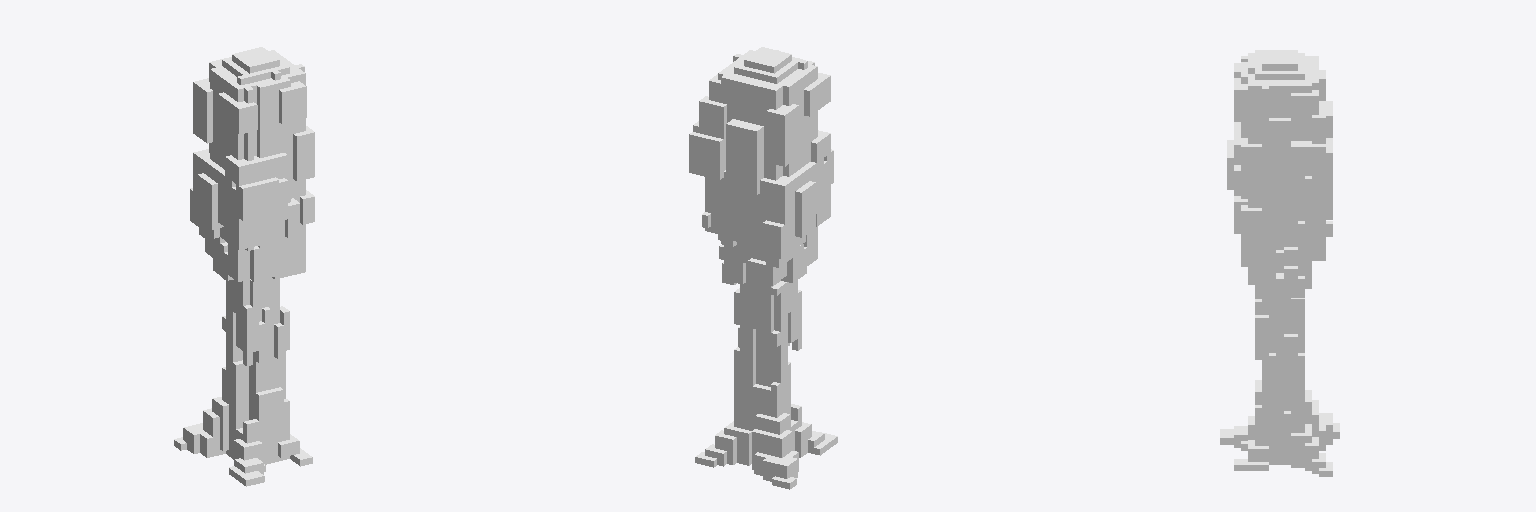
File: Verano_Arbol_Var2.obj
The picture shows the model from 3 angles: view 1: azimuth 30°, elevation 25°; view 2: azimuth 150°, elevation 25°; view 3: azimuth 270°, elevation 25°; orthographic projection.
Visible parts, largest first — view 1: object 1; view 2: object 1; view 3: object 1.
Boxes of the visible parts, box(x1,y1,x2,y2) form: object 1: box(174, 47, 314, 486); object 1: box(689, 47, 837, 489); object 1: box(1220, 50, 1339, 476).
Size of the model in its own units: 1.7 by 6.2 by 1.7.